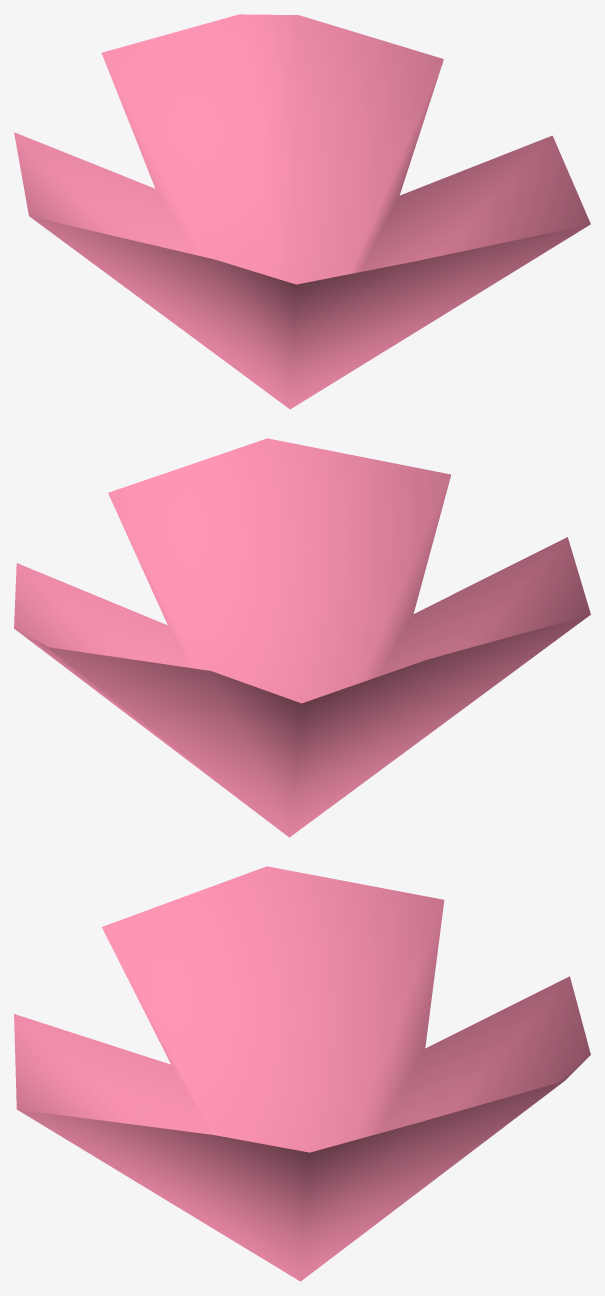
The model's file is Petal_1.glb.
3 views of the same model, one above another, from view 1: azimuth 30°, elevation 25°; view 2: azimuth 150°, elevation 25°; view 3: azimuth 270°, elevation 25° (orthographic). The views are drawn at different scales.
Parts seen in each view (by area): view 1: Petal_1; view 2: Petal_1; view 3: Petal_1.
Part boxes in pixels (bbox=[...]): Petal_1: bbox=[14, 14, 590, 409]; Petal_1: bbox=[14, 438, 590, 837]; Petal_1: bbox=[14, 866, 590, 1281].
Size of the model in its own units: 0.4602 by 0.2437 by 0.455.
